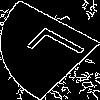L: (25, 25, 99, 75)
